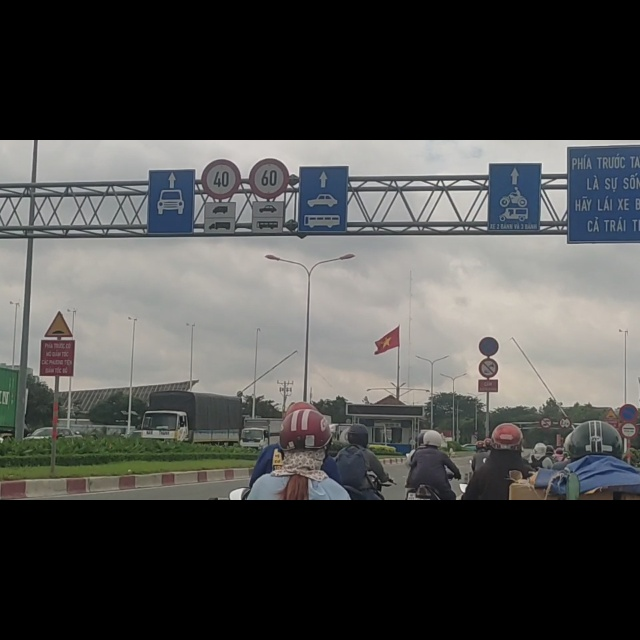bien_cam: (249, 33, 289, 105), (202, 34, 241, 107), (44, 302, 73, 352), (479, 348, 499, 384), (479, 389, 498, 423), (620, 471, 639, 501), (621, 501, 637, 531), (603, 476, 619, 497), (558, 492, 571, 514), (539, 492, 552, 512)
